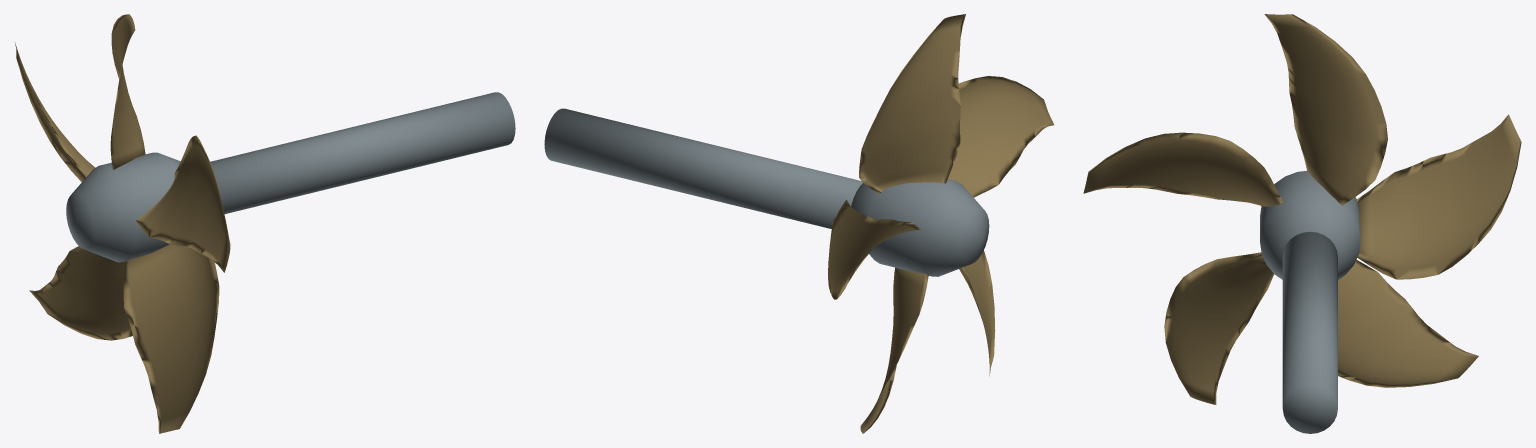
Rendered from PROP_T04_SKEWED_COMBINED.fbx.
3 views of the same model, side by side, from view 1: azimuth 30°, elevation 25°; view 2: azimuth 150°, elevation 25°; view 3: azimuth 270°, elevation 25° (orthographic). The views are drawn at different scales.
Parts seen in each view (by area): view 1: PROP_T04_SKEWED.001; view 2: PROP_T04_SKEWED.001; view 3: PROP_T04_SKEWED.001.
Part boxes in pixels (<box>): PROP_T04_SKEWED.001: <box>15,14,515,433</box>; PROP_T04_SKEWED.001: <box>544,14,1053,433</box>; PROP_T04_SKEWED.001: <box>1083,14,1521,433</box>.
Bounding box in the file's own units: 473 × 413 × 411.
